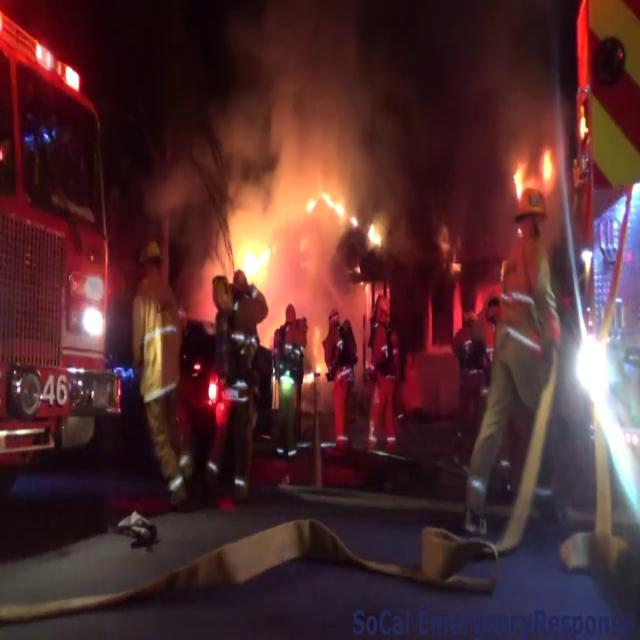Fire: (228, 224, 278, 302)
Smoke: (97, 0, 579, 237)
